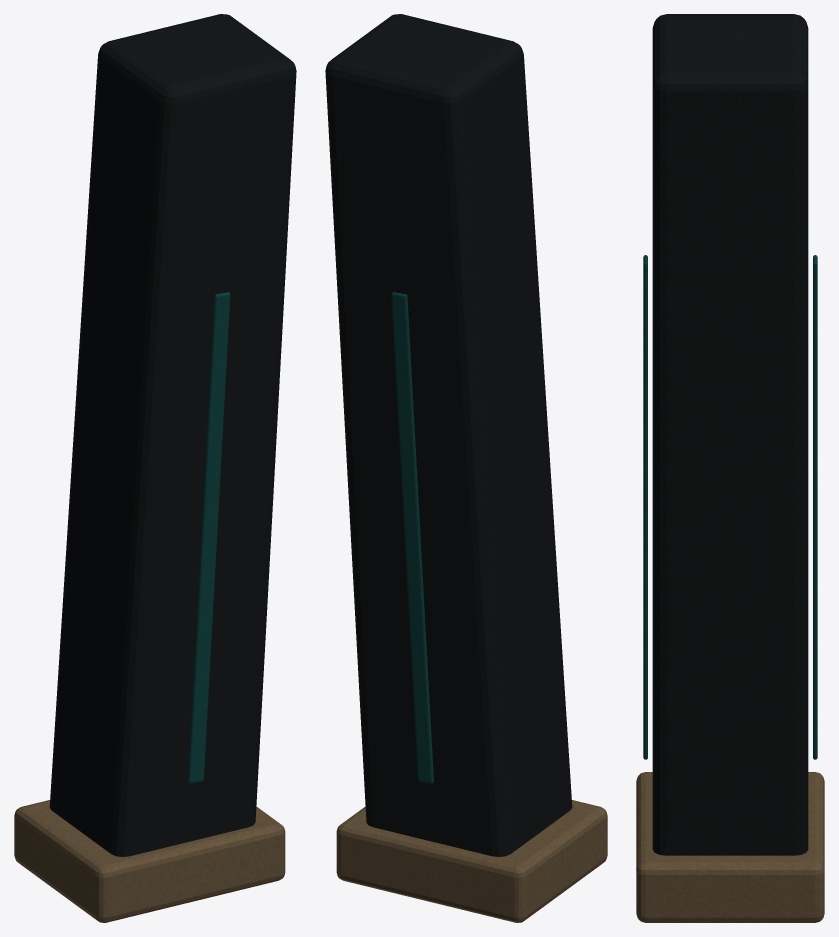
File: wisp02.magazine.glb
3 renders of one model, left to right at view 1: azimuth 30°, elevation 25°; view 2: azimuth 150°, elevation 25°; view 3: azimuth 270°, elevation 25°, orthographic. The views are drawn at different scales.
Visible parts, largest first — view 1: VIS_wisp02_magazine; view 2: VIS_wisp02_magazine; view 3: VIS_wisp02_magazine.
Boxes of the visible parts, bbox=[...] form: VIS_wisp02_magazine: bbox=[14, 14, 296, 922]; VIS_wisp02_magazine: bbox=[325, 14, 607, 922]; VIS_wisp02_magazine: bbox=[636, 14, 824, 922].
Bounding box in the file's own units: 0.0543 × 0.201 × 0.04.
Materials: 3 (3 with a texture image).
